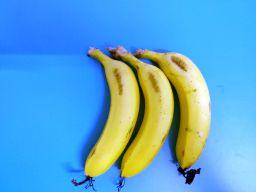banana: (134, 47, 213, 186), (69, 46, 141, 192), (106, 45, 176, 192)
